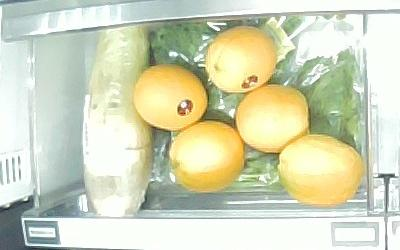orange: (279, 134, 361, 206), (170, 121, 244, 191), (134, 64, 208, 132), (236, 85, 309, 153), (207, 26, 276, 93)
